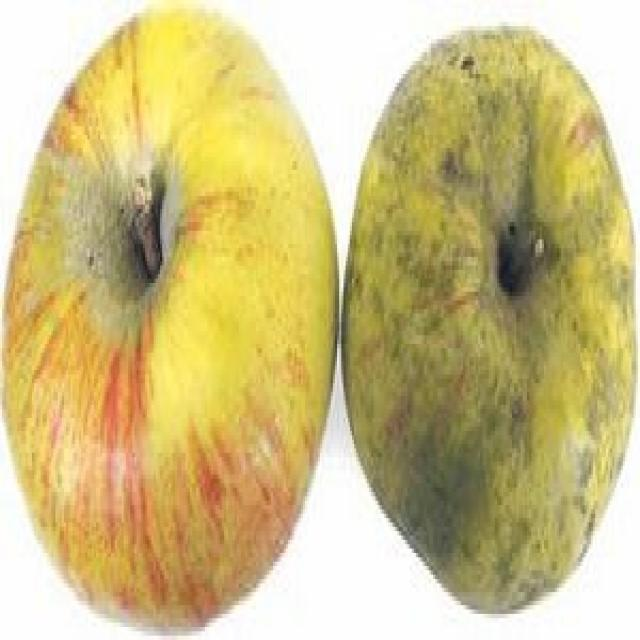Fresh Apple: (36, 20, 326, 612)
Rotten: (338, 18, 640, 640)
